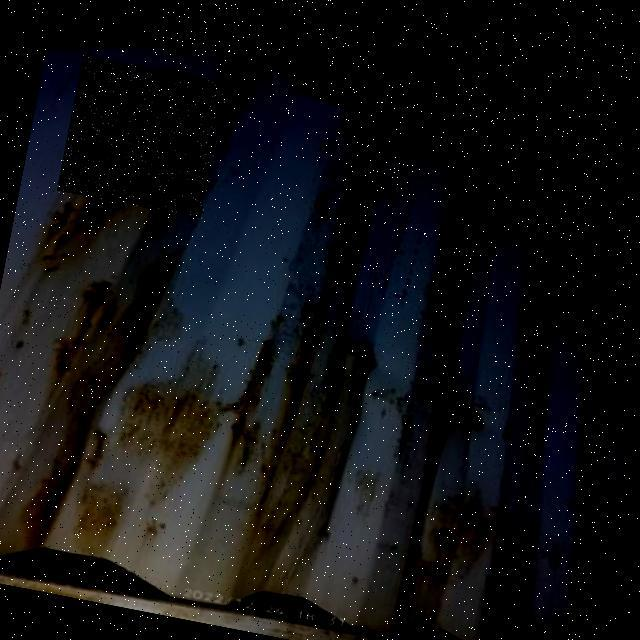Rust: (57, 56, 229, 222)
